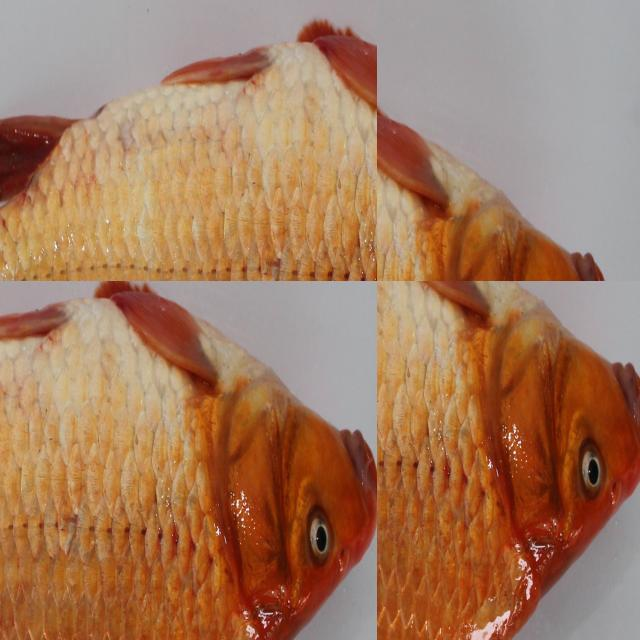fish: (377, 281, 640, 640), (0, 0, 303, 81)
